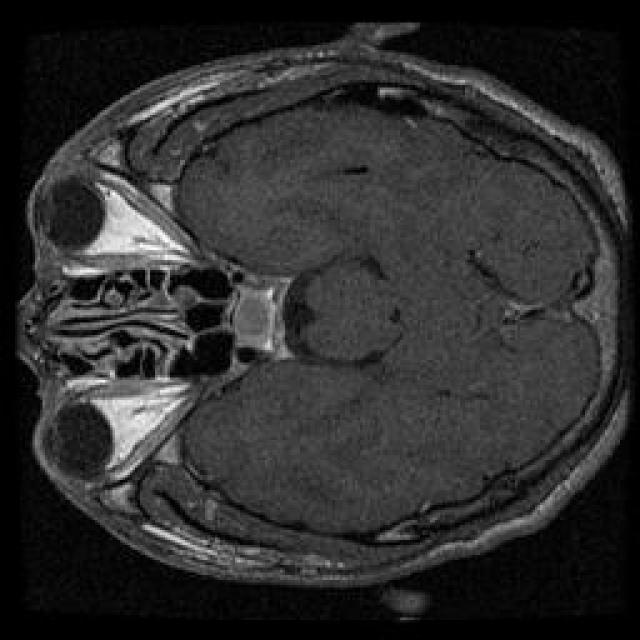Pituitary: (225, 266, 293, 375)
